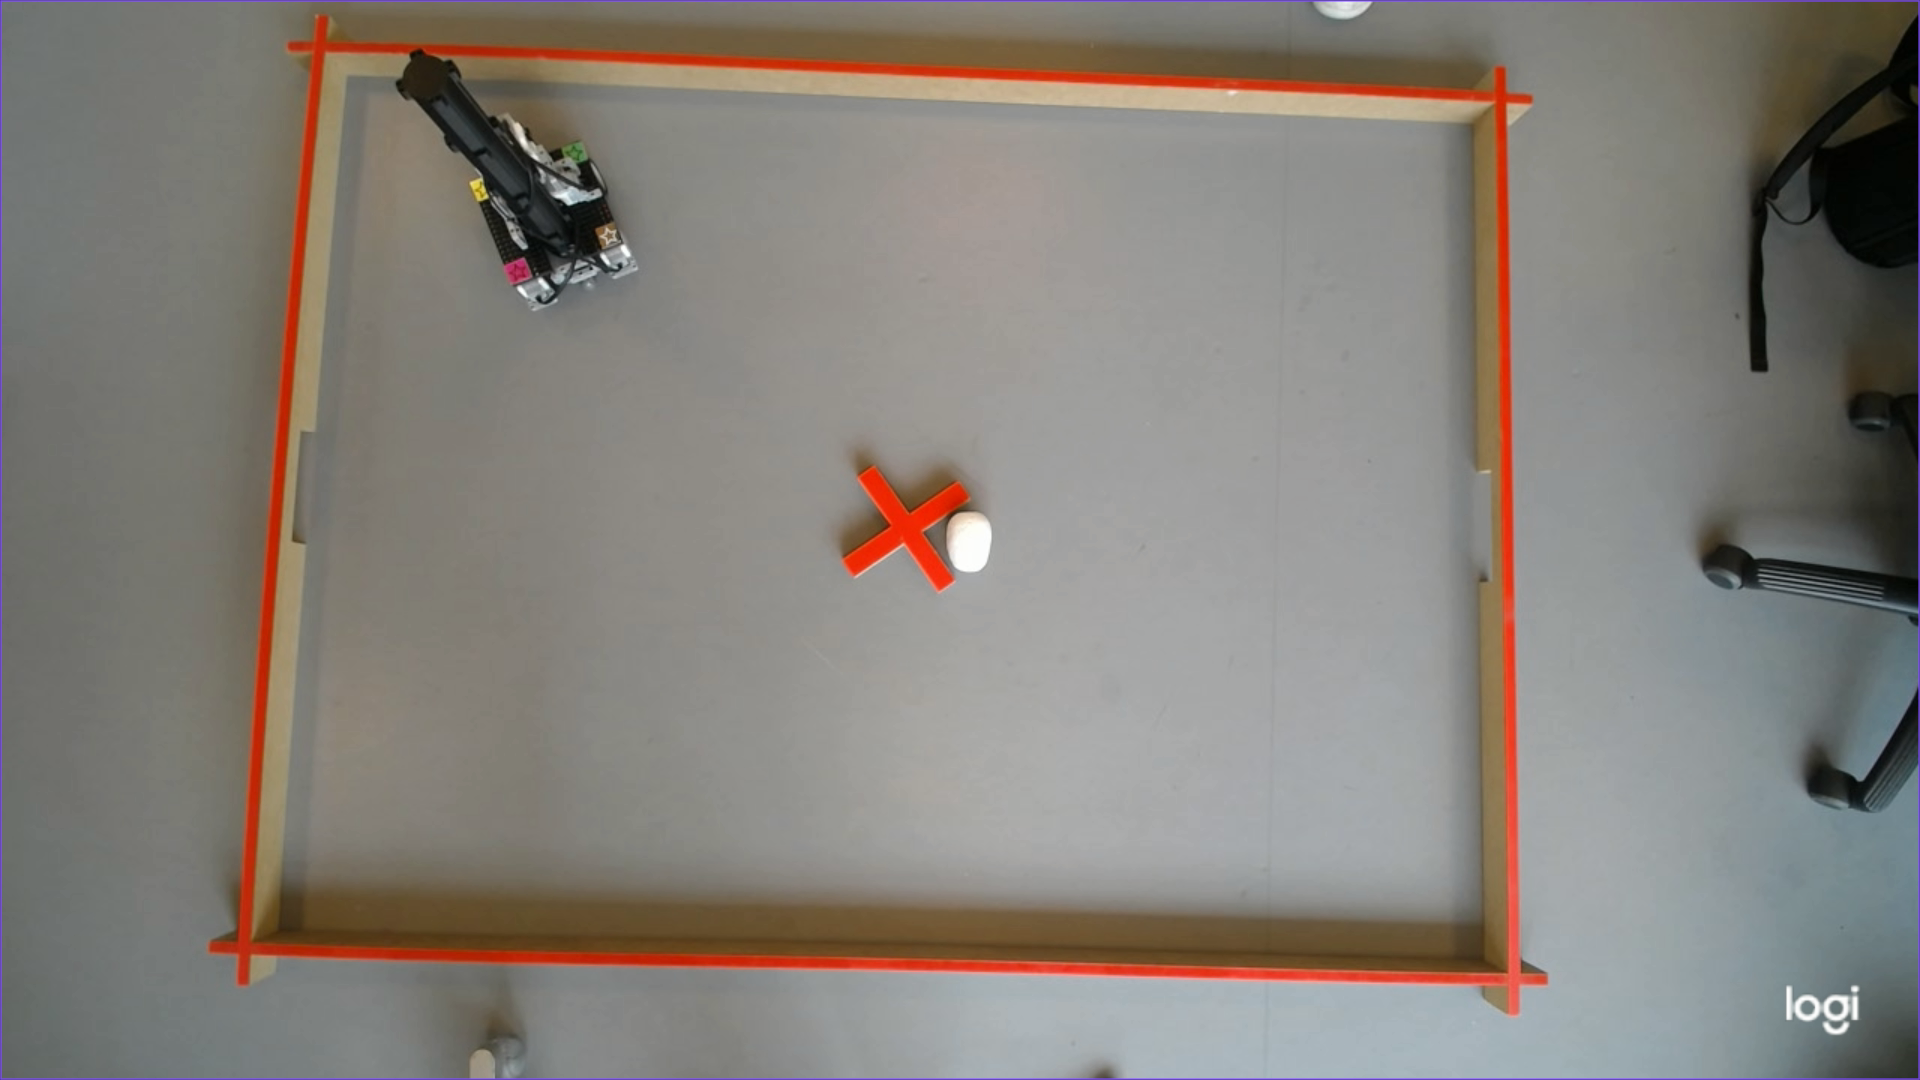corner_brown: (593, 222, 620, 247)
corner_green: (562, 141, 587, 162)
corner_pink: (502, 258, 530, 281)
corner_yellow: (469, 178, 487, 200)
cross: (843, 465, 967, 591)
egg: (945, 510, 992, 574)
playfield: (243, 44, 1542, 975)
playfield_corner: (214, 920, 272, 976), (1487, 955, 1542, 1006), (1480, 76, 1527, 124), (294, 22, 343, 67)
